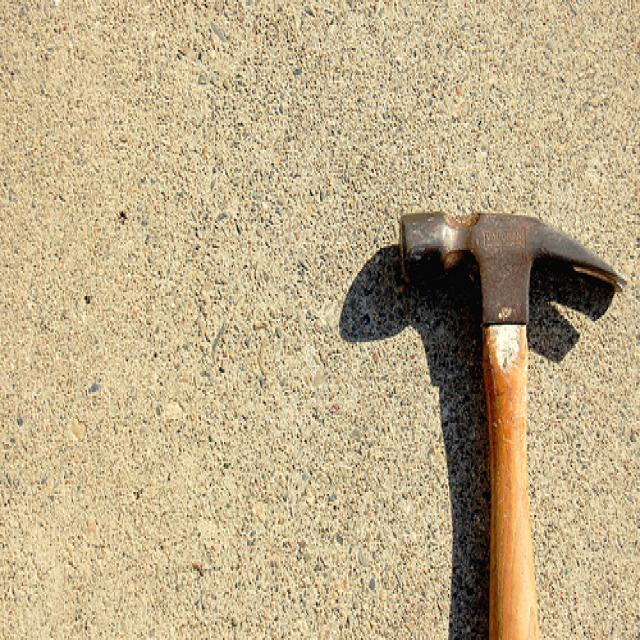hammer: (399, 211, 627, 640)
